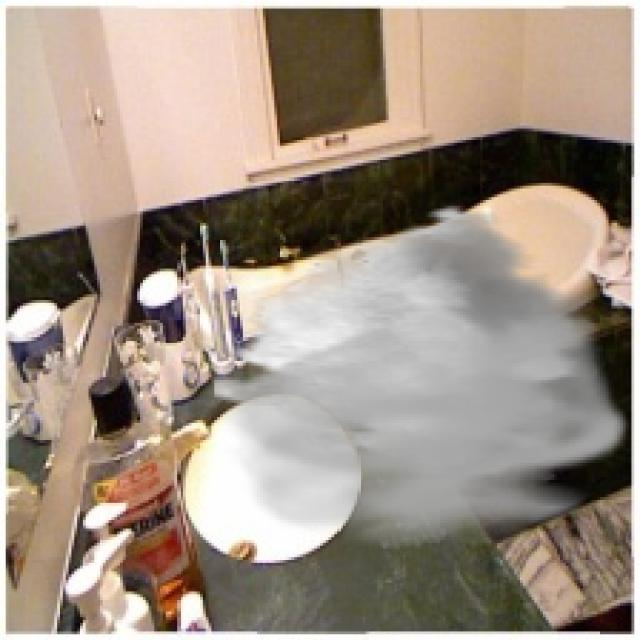smoke: (215, 203, 634, 548)
